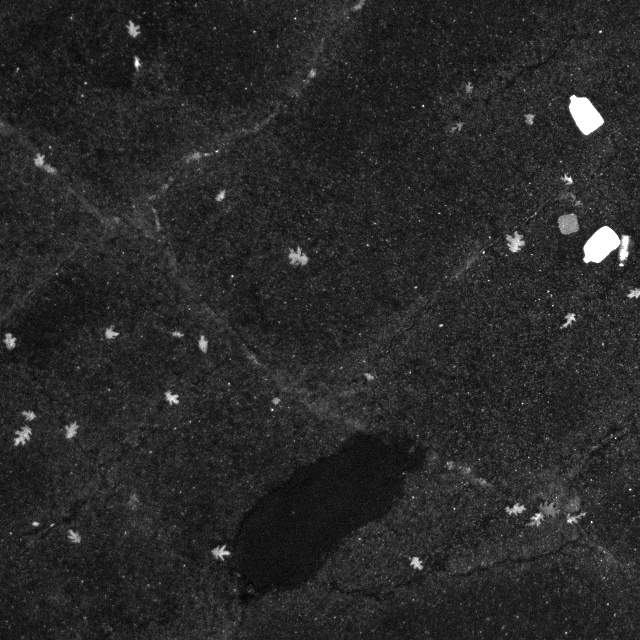can: (566, 87, 605, 136), (581, 223, 624, 265)
container: (557, 208, 581, 237)
